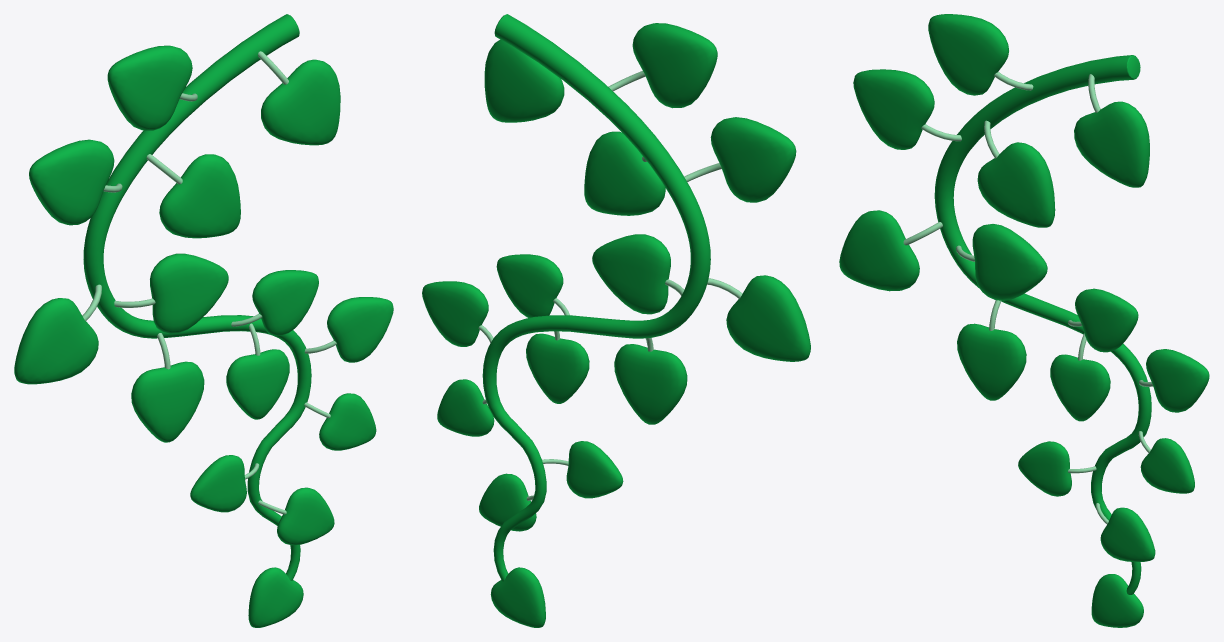
File: City_18_Ivy_1.glb
3 renders of one model, left to right at view 1: azimuth 30°, elevation 25°; view 2: azimuth 150°, elevation 25°; view 3: azimuth 330°, elevation 25°, orthographic. The views are drawn at different scales.
Parts seen in each view (by area): view 1: City_18_Ivy_1; view 2: City_18_Ivy_1; view 3: City_18_Ivy_1.
Boxes of the visible parts, x1=… form: City_18_Ivy_1: x1=14, y1=14, x2=393, y2=627; City_18_Ivy_1: x1=422, y1=14, x2=810, y2=627; City_18_Ivy_1: x1=839, y1=14, x2=1209, y2=627.
Size of the model in its own units: 4.32 by 6.68 by 0.5556.
1 material, 1 textured.
